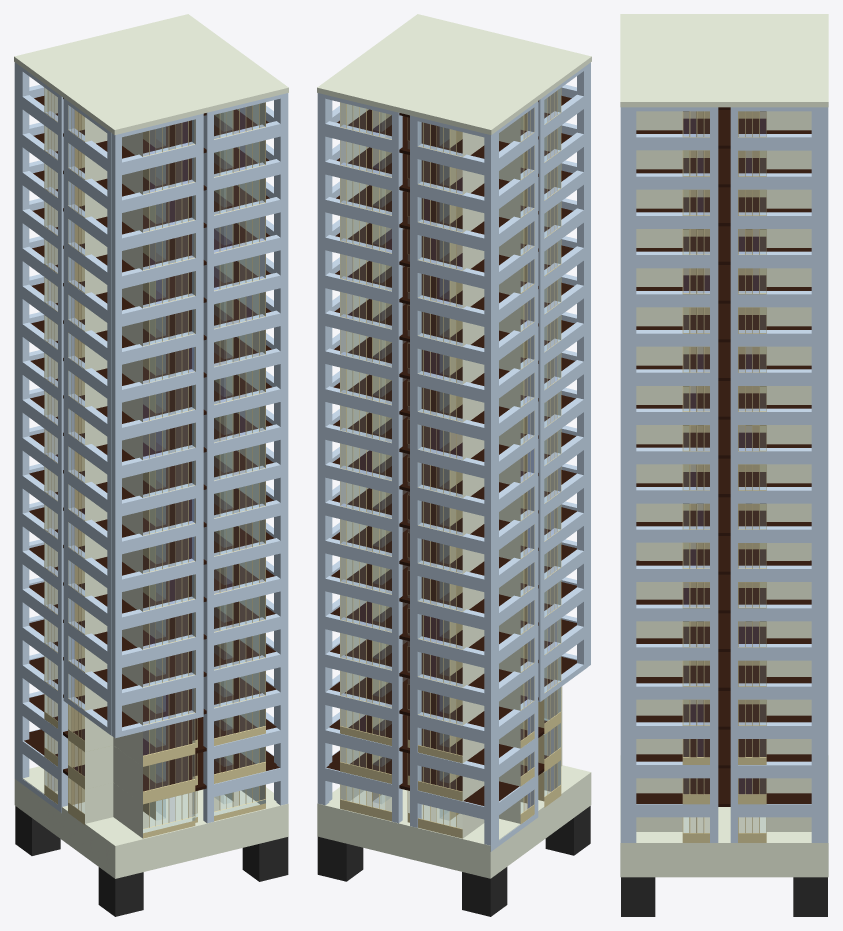
3 views of the same model, side by side, from view 1: azimuth 30°, elevation 25°; view 2: azimuth 150°, elevation 25°; view 3: azimuth 270°, elevation 25° (orthographic). The views are drawn at different scales.
Visible parts, largest first — view 1: Cube.011, Cube.006, Cube.014, Cube.005, Cube.008, Cube.009, Cube.015, Cube.001, Cube.007, Cube.012, Cube.013, Cube (+1 smaller); view 2: Cube.011, Cube.014, Cube.004, Cube.007, Cube.008, Cube.009, Cube.015, Cube.001, Cube.005, Cube.010, Cube.002, Cube.003 (+1 smaller); view 3: Cube.011, Cube.012, Cube.010, Cube.014, Cube.015, Cube.001, Cube.004, Cube.006, Cube, Cube.003.
Part boxes in pixels (left/top/right/bottom): Cube.011: left=44, top=87, right=265, bottom=838; Cube.006: left=203, top=93, right=288, bottom=823; Cube.014: left=24, top=96, right=279, bottom=791; Cube.005: left=111, top=113, right=203, bottom=738; Cube.008: left=18, top=65, right=67, bottom=812; Cube.009: left=63, top=98, right=111, bottom=734; Cube.015: left=14, top=14, right=288, bottom=134; Cube.001: left=14, top=766, right=288, bottom=878; Cube.007: left=14, top=62, right=44, bottom=780; Cube.012: left=266, top=99, right=276, bottom=801; Cube.013: left=98, top=867, right=143, bottom=916; Cube: left=242, top=837, right=288, bottom=881; Cube.011: left=340, top=88, right=562, bottom=838; Cube.014: left=326, top=95, right=576, bottom=805; Cube.004: left=317, top=93, right=402, bottom=823; Cube.007: left=410, top=115, right=494, bottom=851; Cube.008: left=495, top=101, right=538, bottom=848; Cube.009: left=538, top=65, right=587, bottom=701; Cube.015: left=317, top=14, right=591, bottom=134; Cube.001: left=317, top=765, right=591, bottom=878; Cube.005: left=561, top=62, right=590, bottom=666; Cube.010: left=329, top=99, right=339, bottom=800; Cube.002: left=462, top=867, right=507, bottom=916; Cube.003: left=317, top=836, right=363, bottom=881; Cube.011: left=636, top=111, right=811, bottom=842; Cube.012: left=628, top=107, right=718, bottom=842; Cube.010: left=730, top=107, right=820, bottom=842; Cube.014: left=636, top=107, right=811, bottom=806; Cube.015: left=620, top=14, right=828, bottom=107; Cube.001: left=620, top=755, right=828, bottom=877; Cube.004: left=820, top=107, right=828, bottom=842; Cube.006: left=620, top=107, right=628, bottom=842; Cube: left=621, top=877, right=655, bottom=916; Cube.003: left=793, top=877, right=827, bottom=916.
Size of the model in its own units: 6.04 by 26.09 by 6.04.
